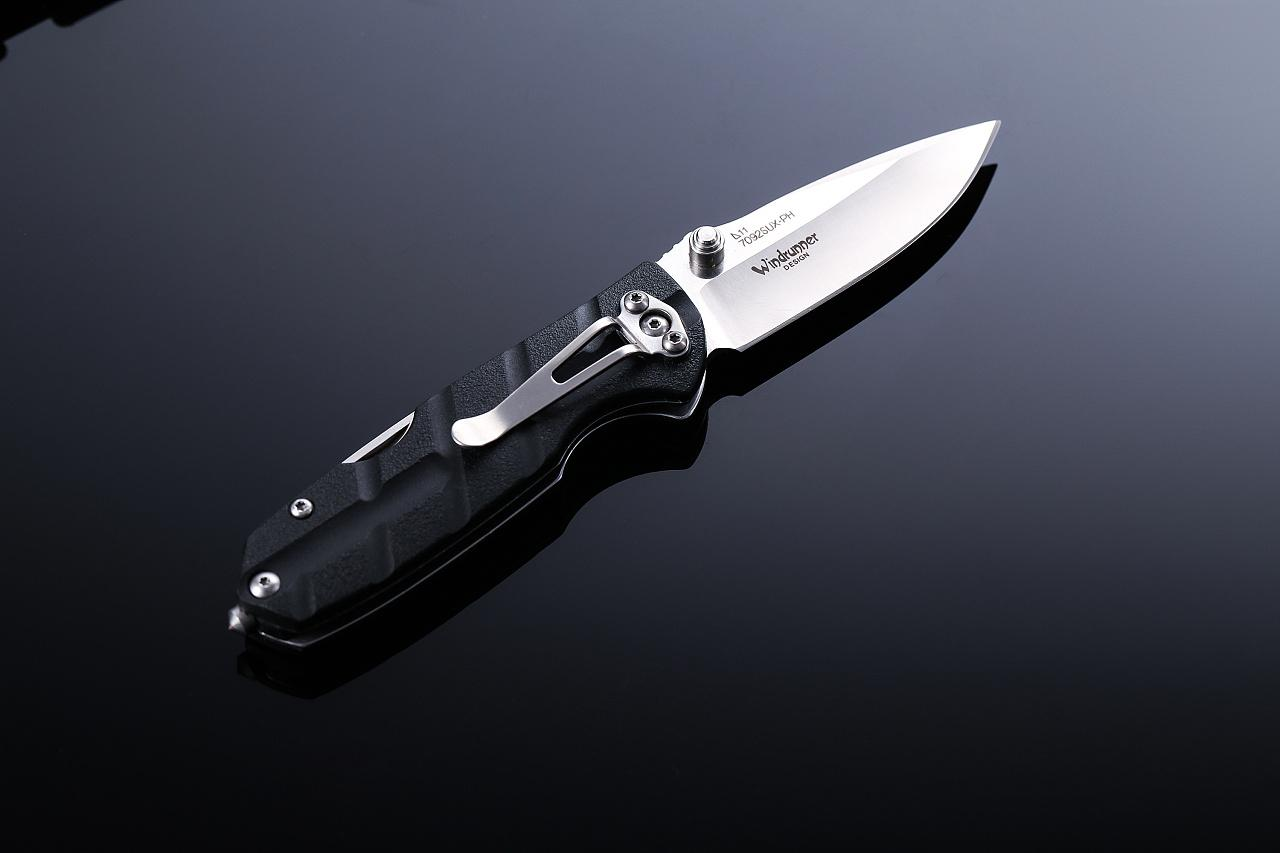knife: (161, 100, 1061, 666)
